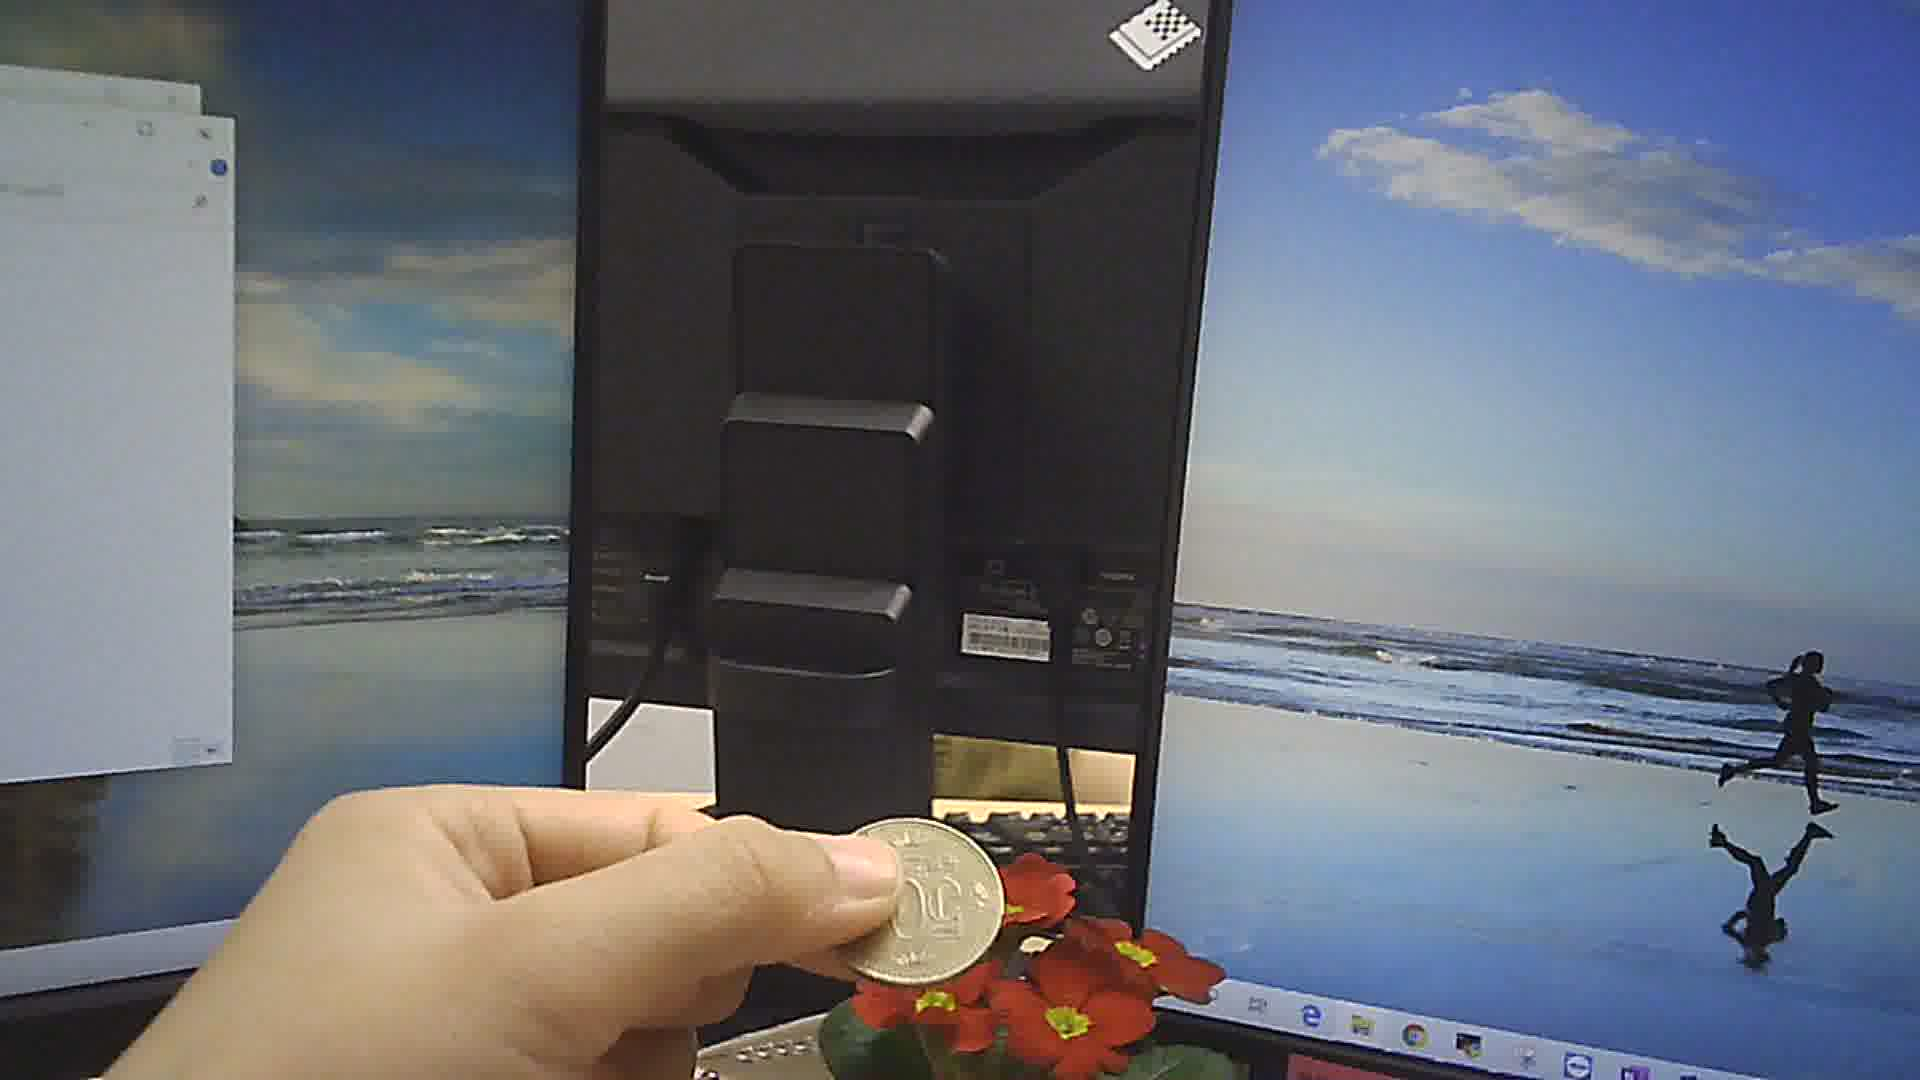500 Yen: (818, 814, 1006, 993)
